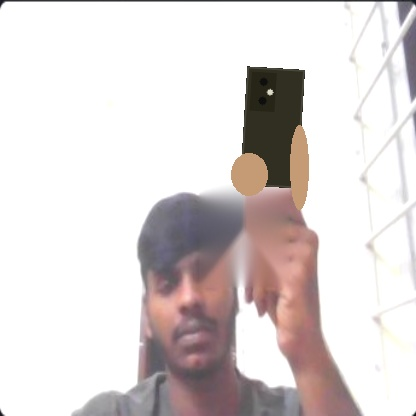cell_phone: (240, 66, 305, 188)
